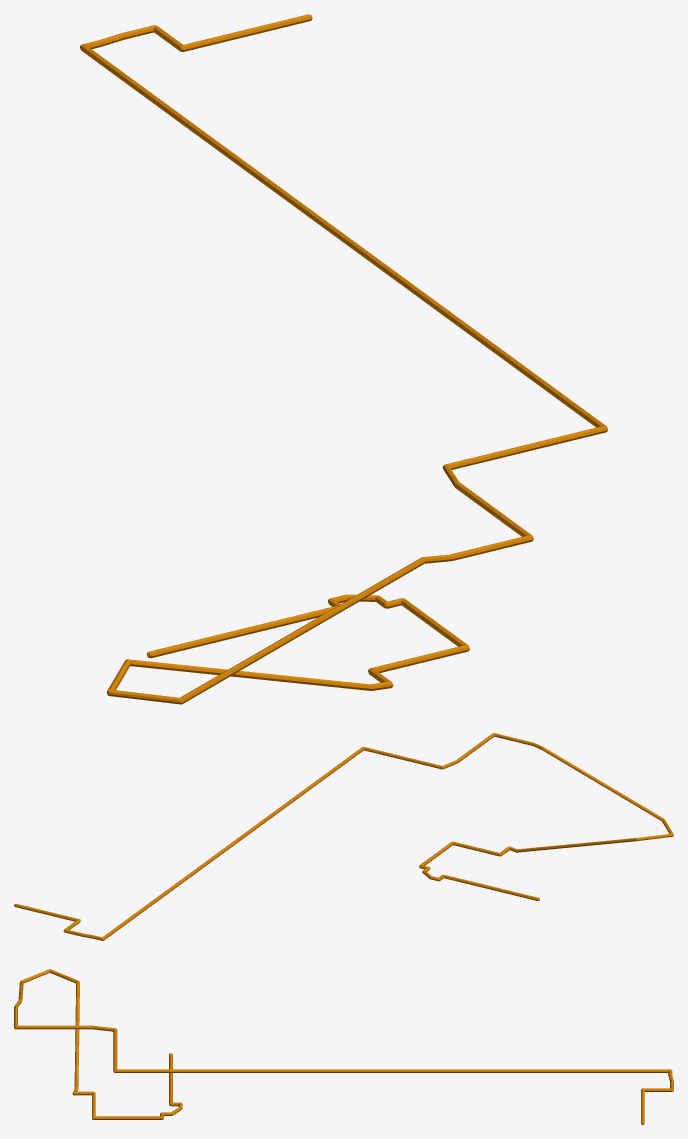
3 views of the same model, one above another, from view 1: azimuth 30°, elevation 25°; view 2: azimuth 150°, elevation 25°; view 3: azimuth 270°, elevation 25° (orthographic). The views are drawn at different scales.
Size of the model in its own units: 2406 by 520 by 3390.
